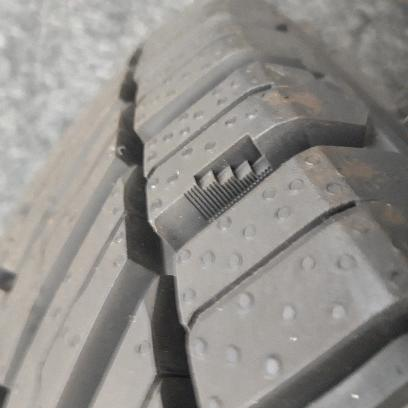temoin:100: (180, 132, 278, 225)
